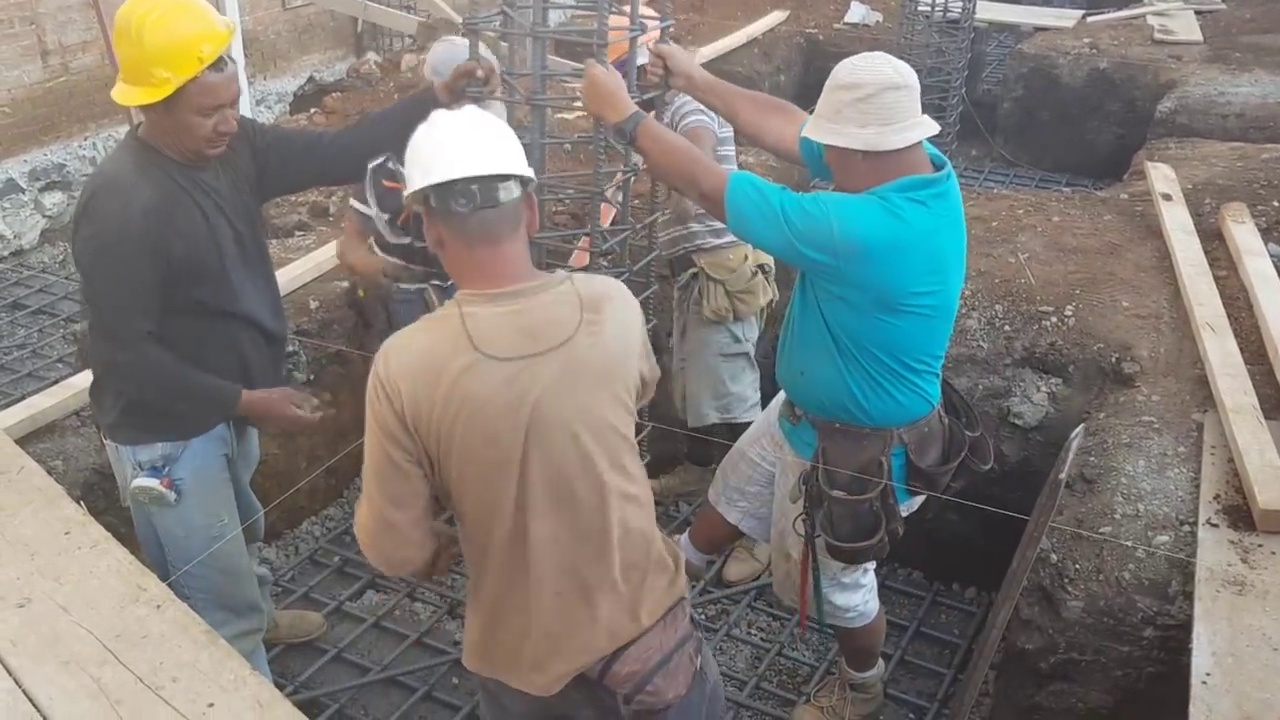helmet: (102, 0, 233, 115), (399, 100, 542, 204), (598, 9, 666, 87), (420, 28, 495, 91)
helmet-off: (791, 49, 945, 195)
helmet-on: (401, 88, 540, 300), (96, 3, 246, 177), (606, 10, 675, 112)
person: (586, 0, 970, 720), (59, 0, 386, 705), (348, 89, 703, 720), (593, 9, 773, 497), (330, 24, 551, 331)
